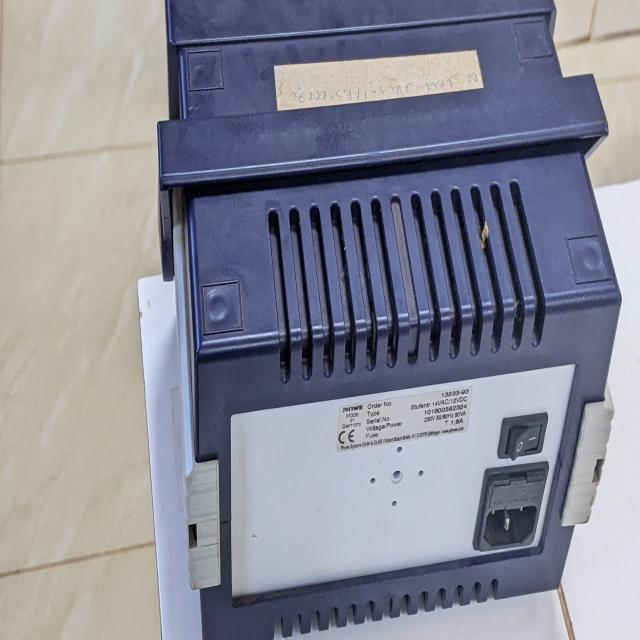Power Supply Stufentrafo_75VA: (149, 2, 635, 629)
